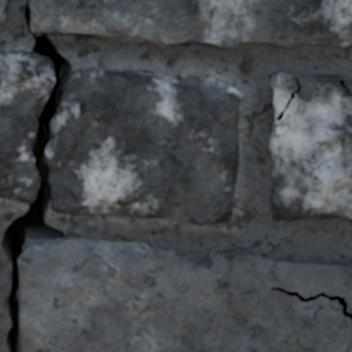brick: (18, 237, 351, 351), (29, 0, 351, 48), (269, 72, 351, 220), (0, 0, 8, 23), (346, 80, 351, 90)
broken_brick: (47, 68, 243, 225), (0, 51, 53, 204)
crack: (0, 1, 72, 351), (269, 286, 351, 319), (274, 77, 301, 121), (339, 79, 351, 96)
